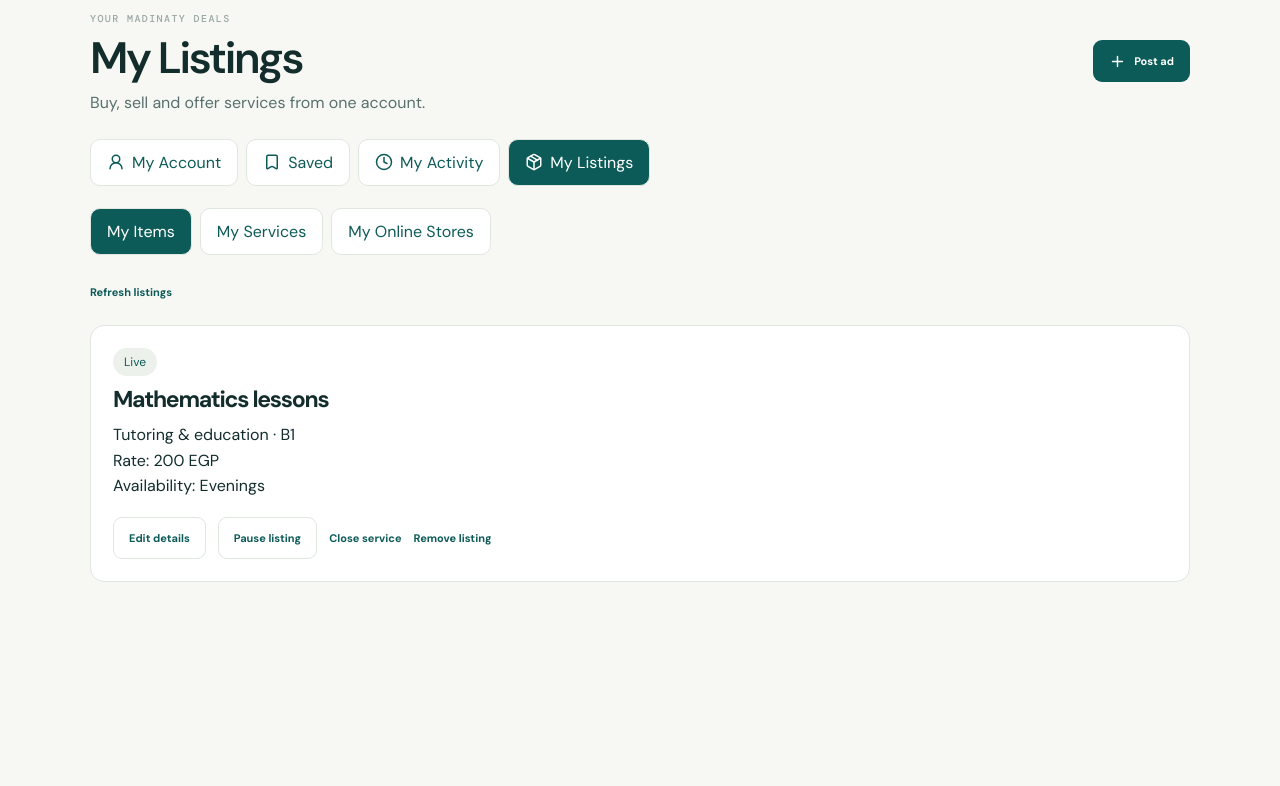
it: keeps the same focused input node while editing a service
Click the button "Edit details" at (159, 538), box [113,517,206,559]
(page scrolled)
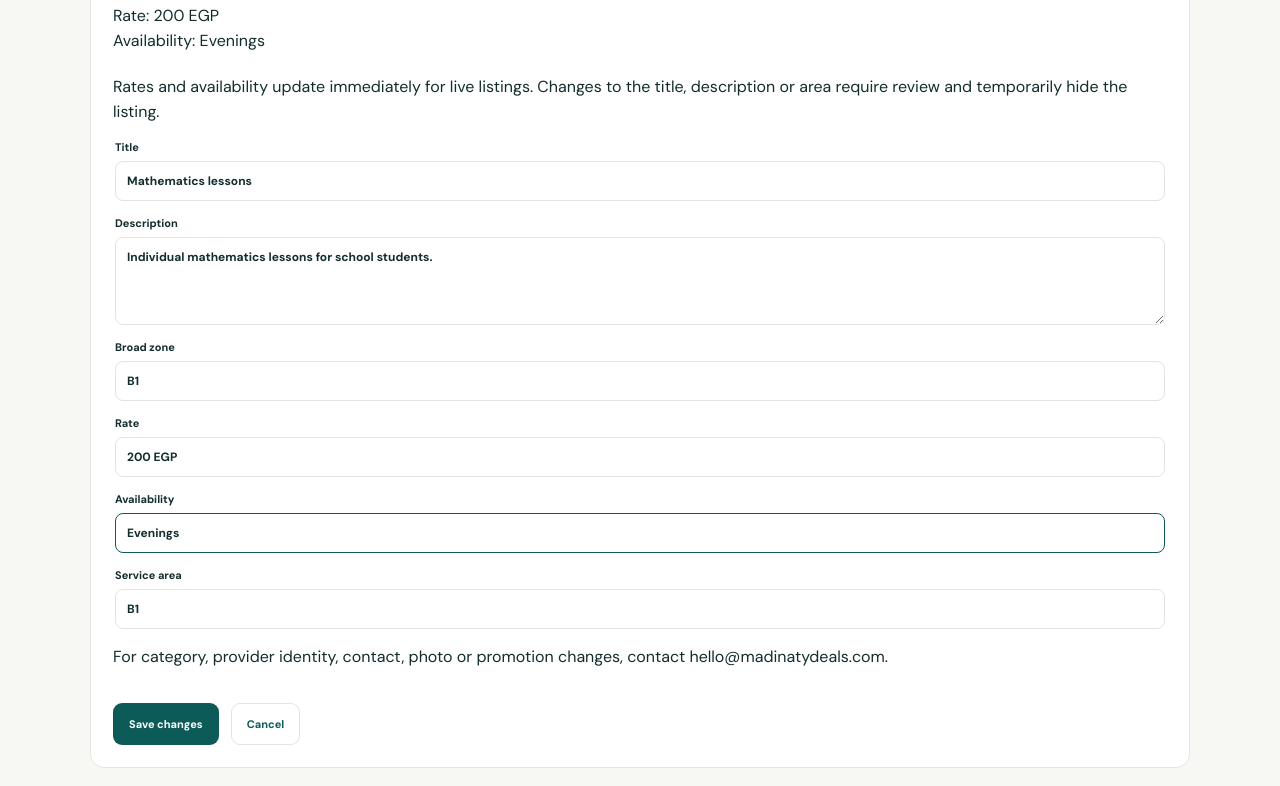
Replace the text in the field labelled "Availability" with "M" at (640, 533), box [115,513,1165,553]
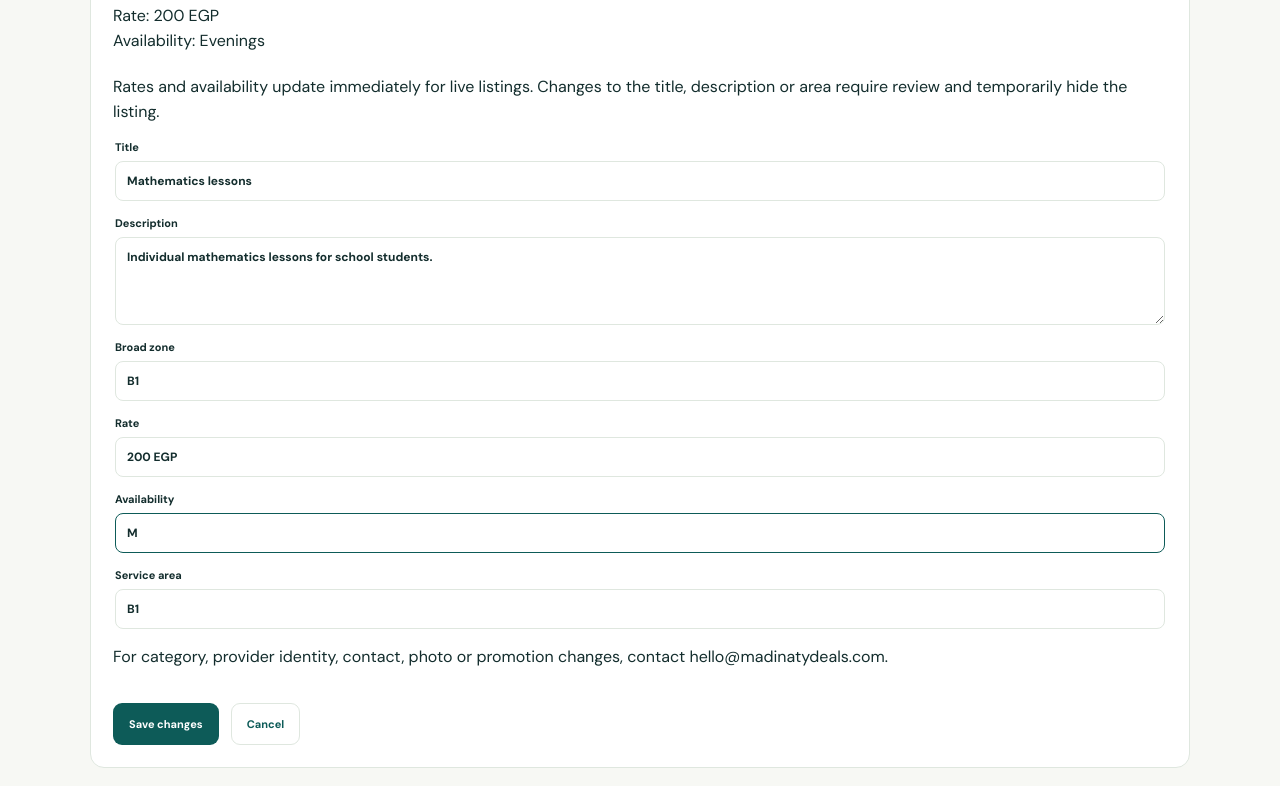
Replace the text in the field labelled "Availability" with "Mo" at (640, 533), box [115,513,1165,553]
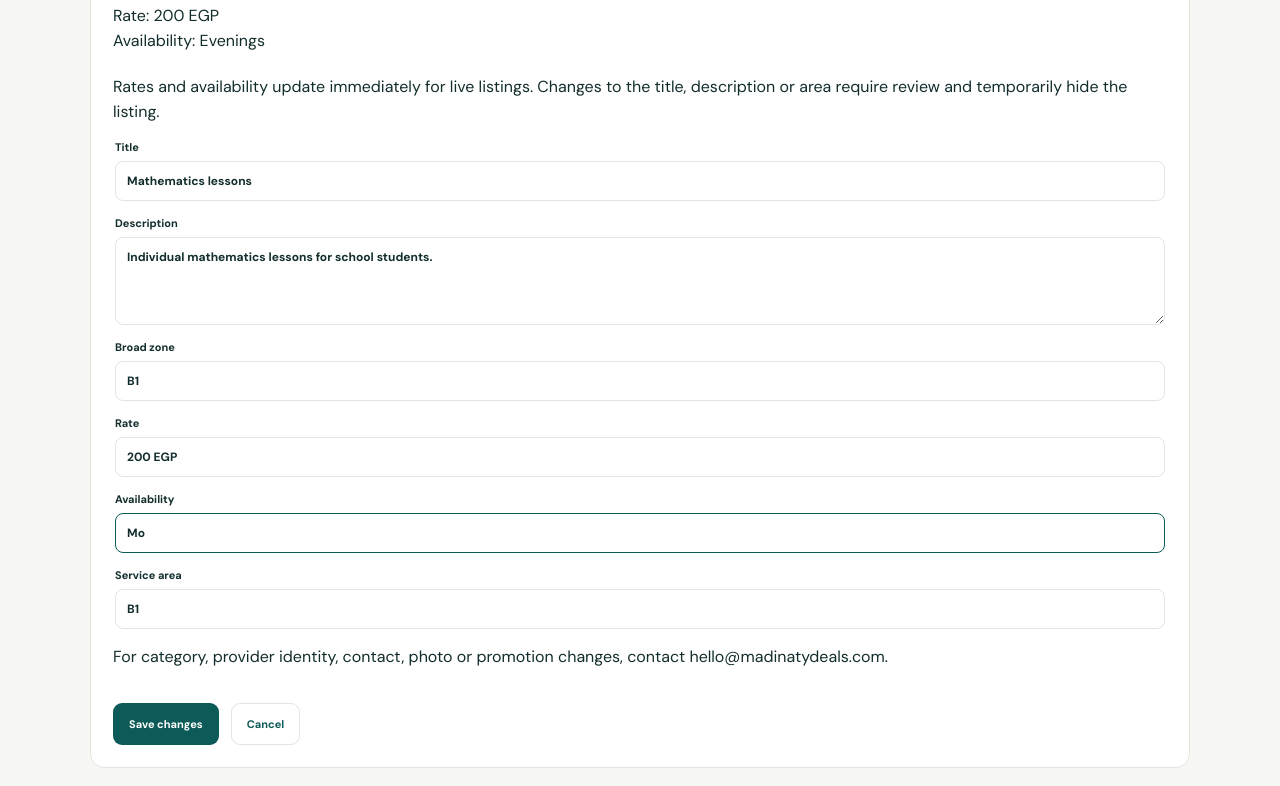
Replace the text in the field labelled "Availability" with "Morning" at (640, 533), box [115,513,1165,553]
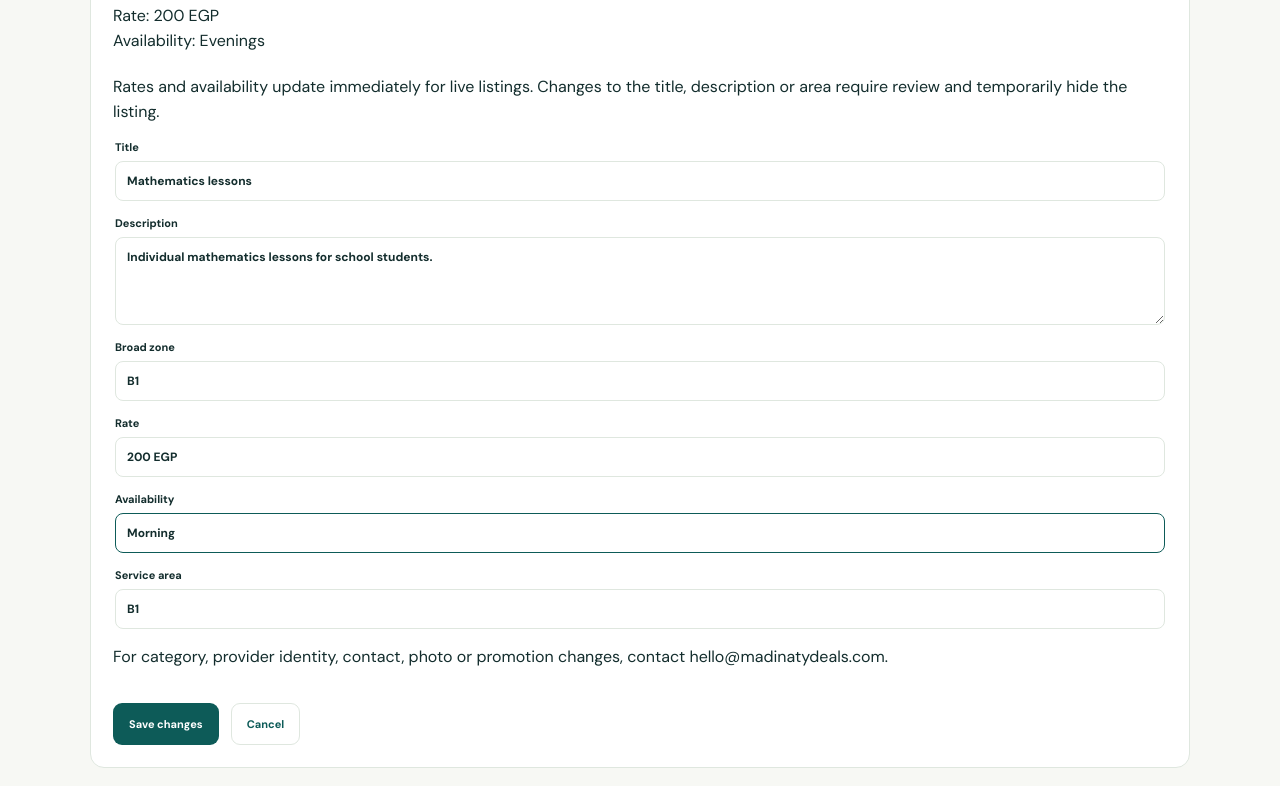
Click the button "Save changes" at (166, 724), box [113,703,219,745]
(page scrolled)
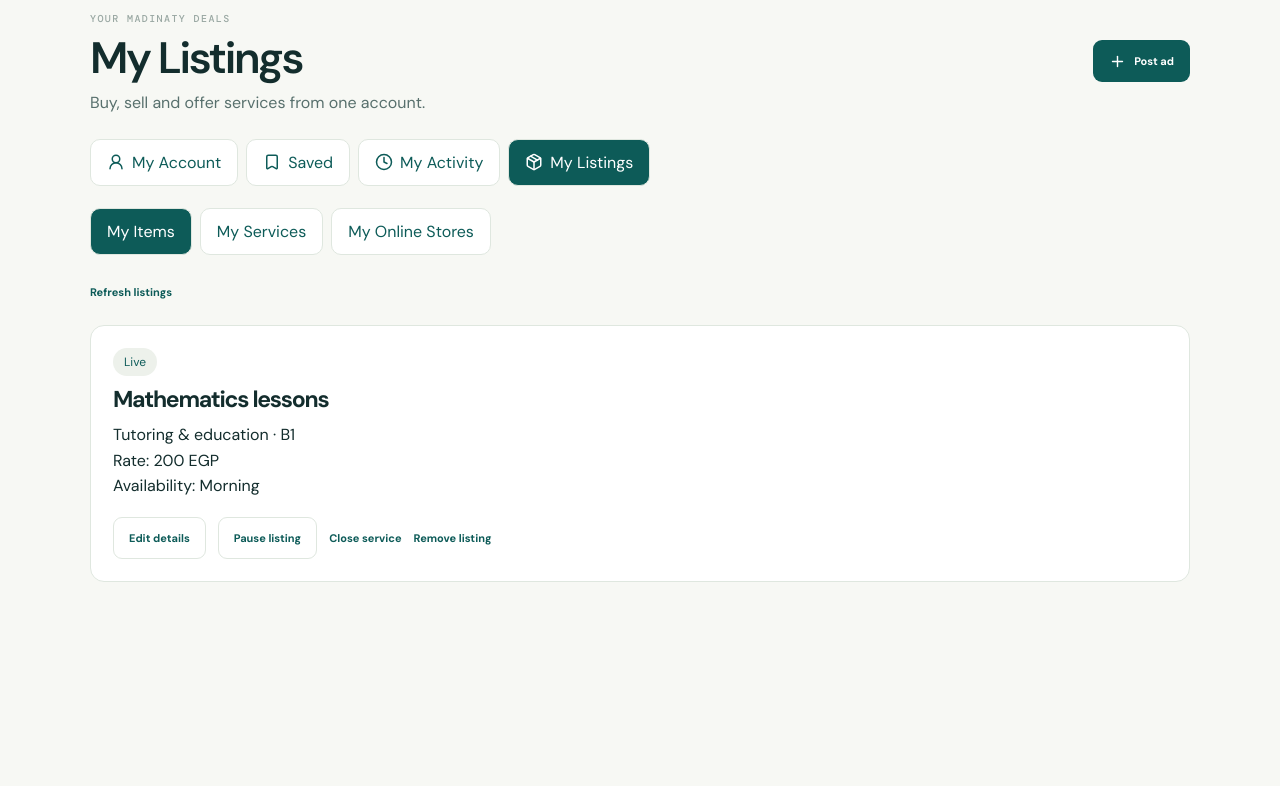
expect the text "Availability: Morning" is shown: met, box [113,475,260,496]
